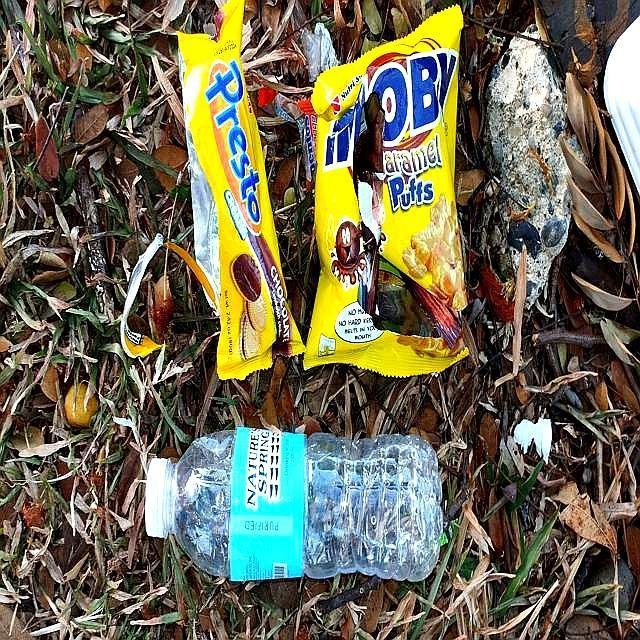Non-biodegradable: (302, 4, 469, 374), (171, 4, 313, 391), (151, 427, 449, 589)
